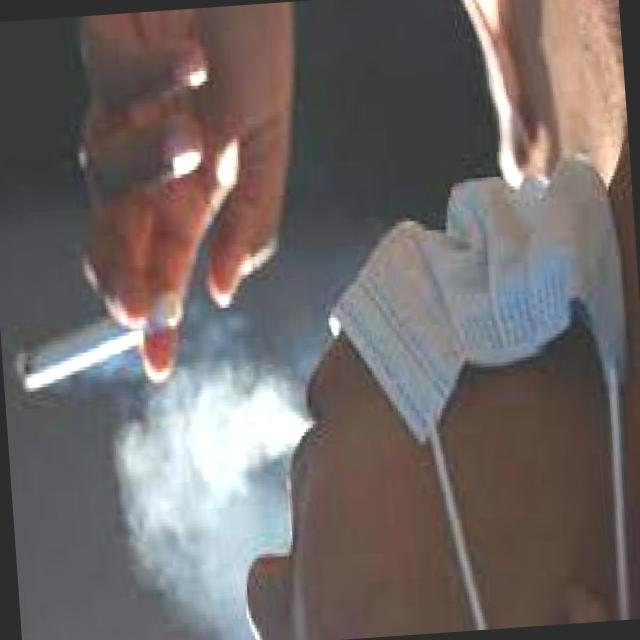smoke: (12, 286, 190, 399)
